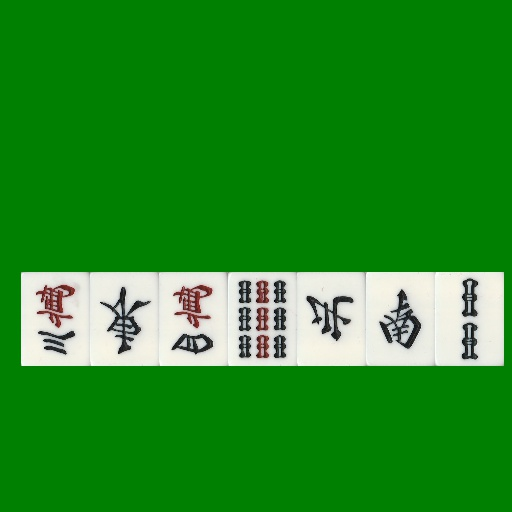2s: (435, 272, 504, 366)
3m: (21, 272, 90, 366)
4m: (159, 272, 228, 366)
9s: (228, 272, 297, 366)
east: (90, 272, 159, 366)
north: (297, 272, 366, 366)
south: (366, 272, 435, 366)
